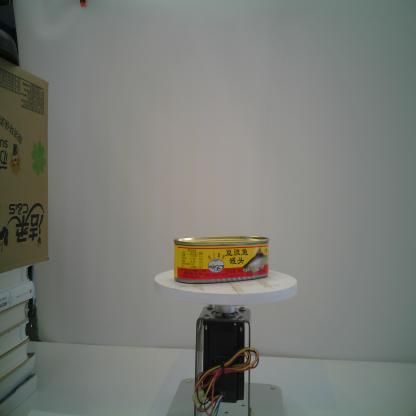Canned Food: (172, 235, 271, 284)
